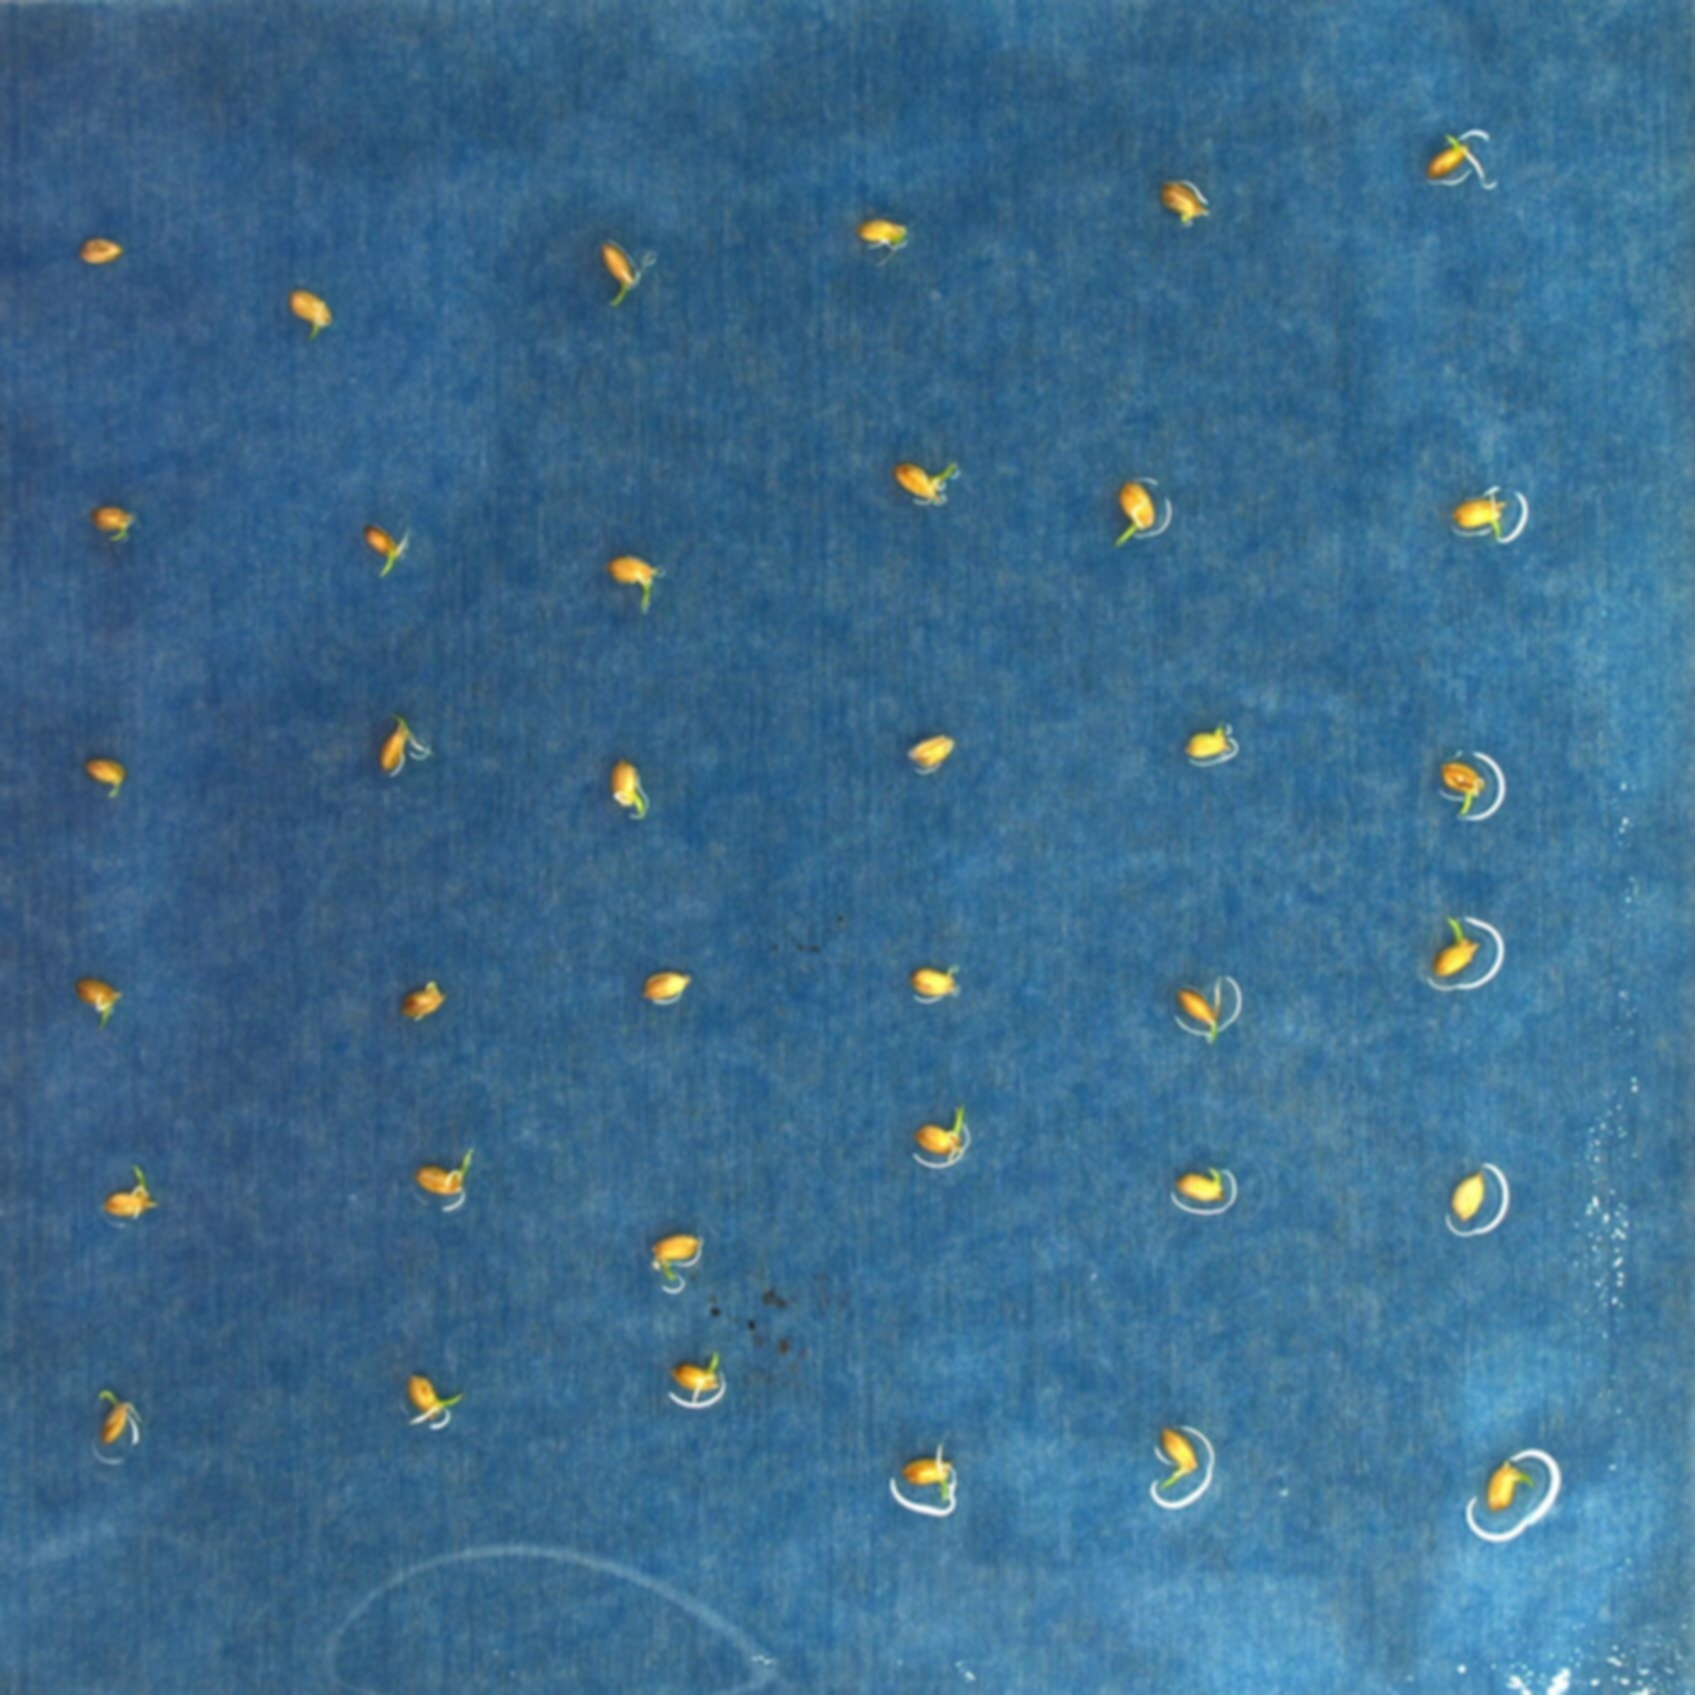not sprout: (1175, 981, 1225, 1048), (903, 1444, 953, 1504), (1425, 133, 1487, 180), (75, 976, 126, 1029), (1487, 1461, 1537, 1513), (365, 518, 408, 574), (612, 756, 646, 824), (1447, 1167, 1487, 1225), (1161, 177, 1212, 220), (674, 1357, 722, 1400), (906, 733, 958, 773), (1175, 1167, 1226, 1208), (380, 712, 413, 775), (84, 754, 127, 799), (400, 983, 447, 1023), (289, 290, 329, 335), (88, 500, 133, 536), (641, 972, 692, 1003), (911, 969, 959, 1000), (1184, 730, 1231, 761), (858, 219, 908, 247), (81, 233, 123, 262)
sprout: (1451, 483, 1507, 548), (908, 1104, 969, 1161), (647, 1232, 706, 1285), (405, 1372, 464, 1425), (607, 556, 657, 618), (416, 1149, 477, 1198), (96, 1388, 144, 1450), (1434, 914, 1479, 979), (1156, 1425, 1197, 1496), (891, 463, 955, 508), (599, 239, 643, 304), (1116, 480, 1155, 551), (104, 1167, 154, 1222), (1440, 761, 1487, 816)
